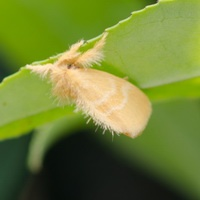insect: (26, 32, 151, 136)
